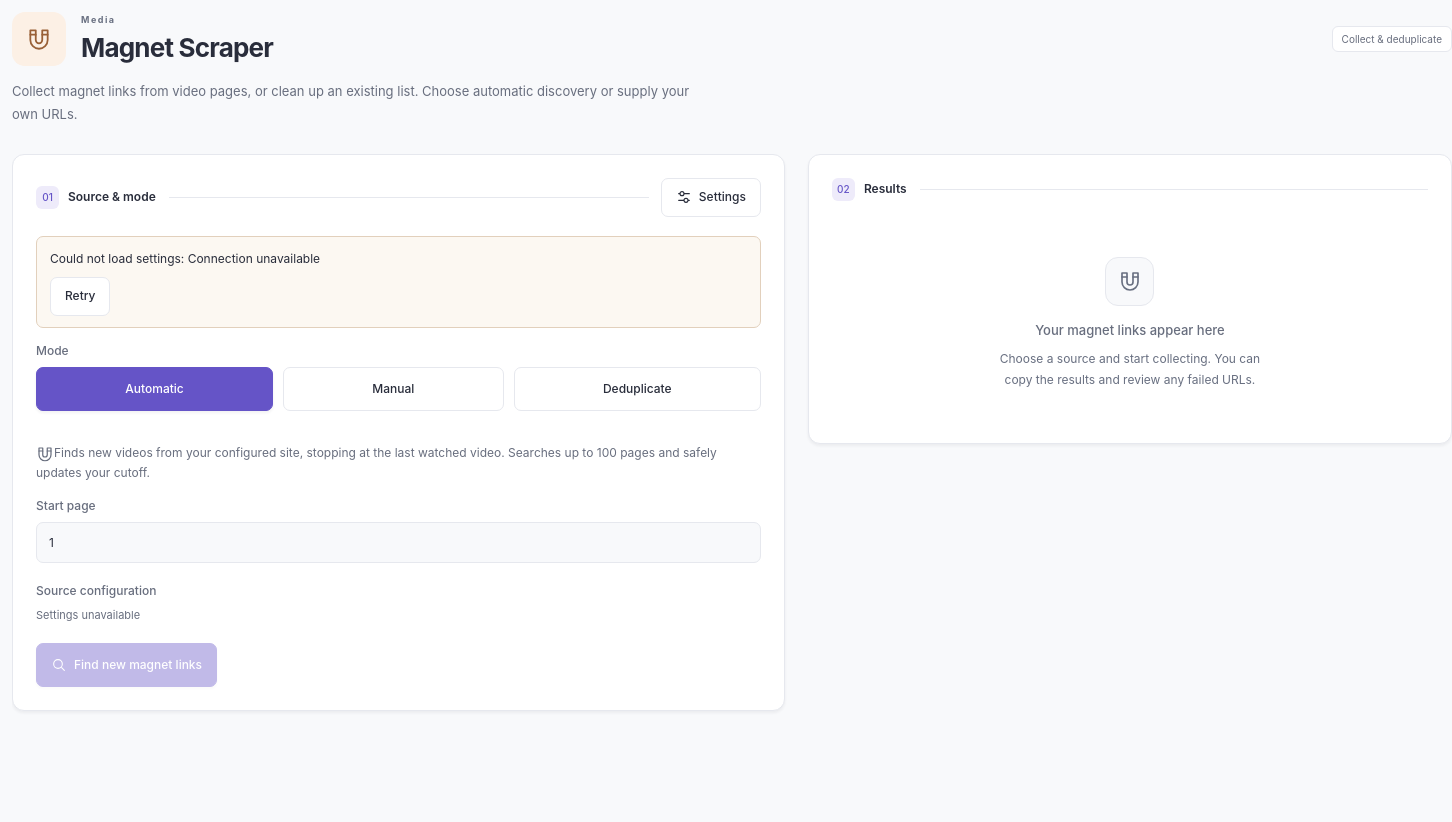
Test: allows a failed settings load to be retried while other modes remain usable
This screenshot has width=1452, height=822.
Check: the message shows "Connection unavailable", box [188,251,320,266]
Check: the button "Find new magnet links" is disabled, box [36,643,217,687]
Click the button "Manual" at (393, 389), box [283,367,504,411]
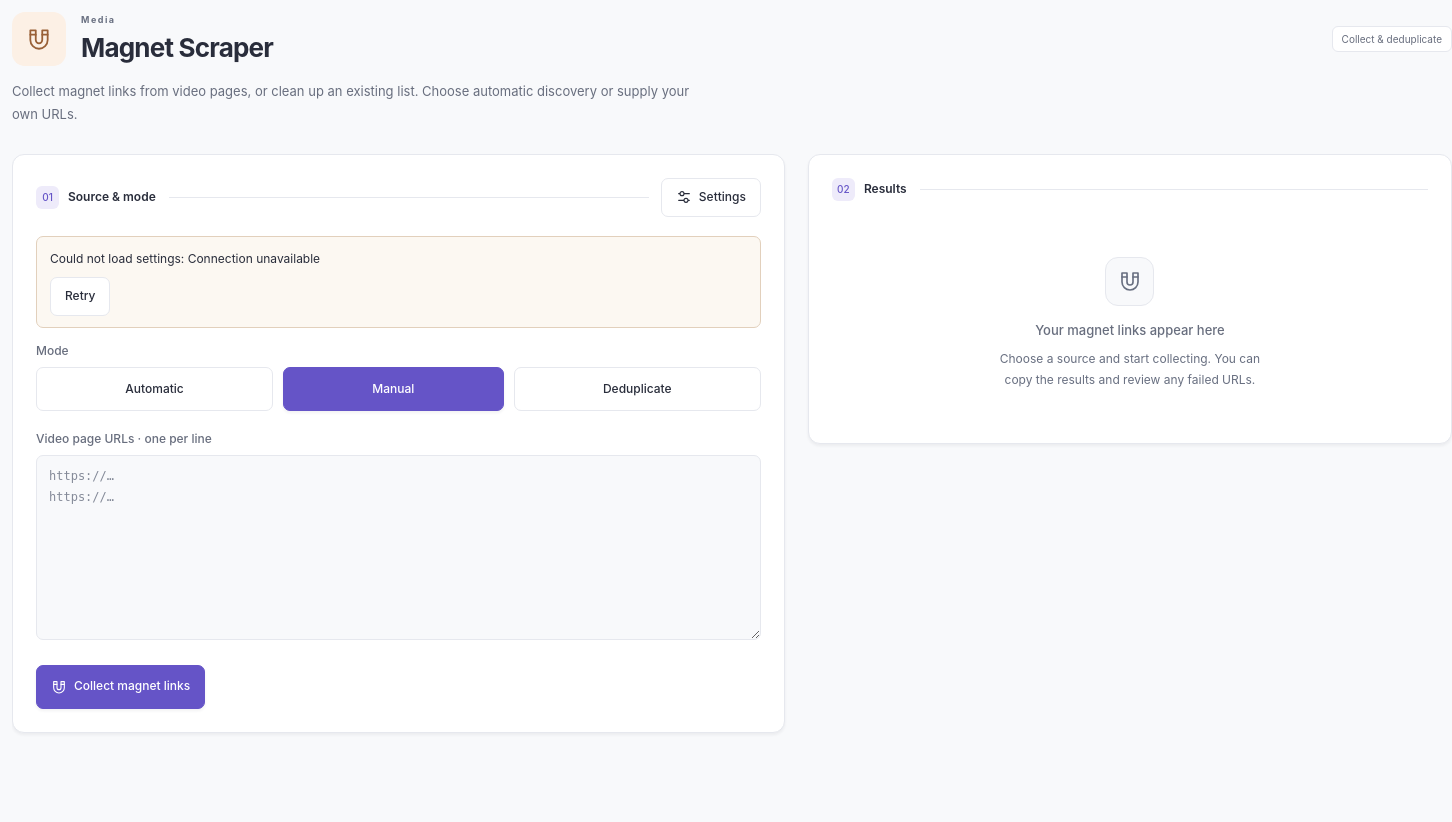
Check: the button "Collect magnet links" is enabled, box [36,665,205,709]
Click the button "Deduplicate" at (637, 389), box [514,367,761,411]
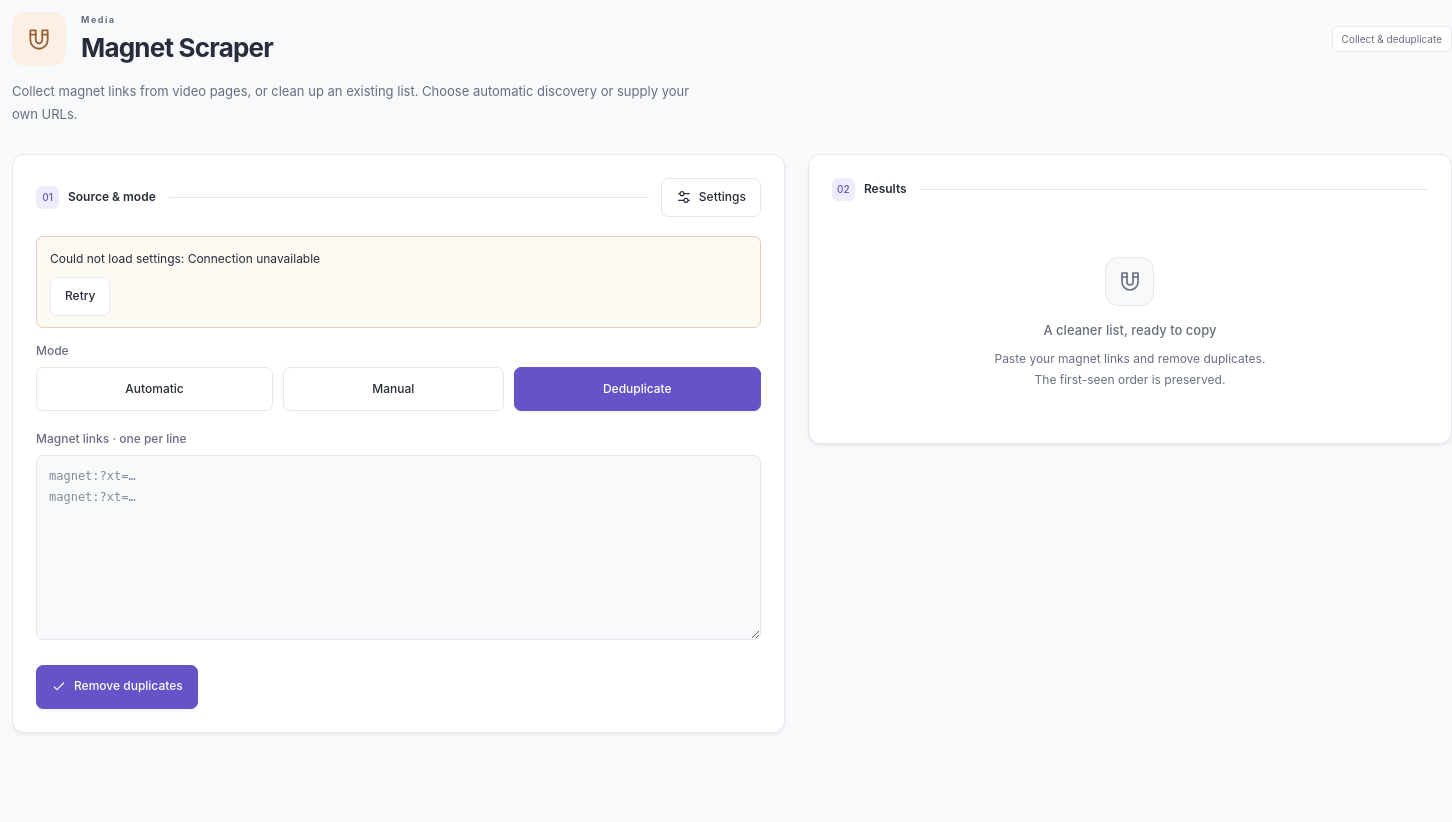
Check: the button "Remove duplicates" is enabled, box [36,665,198,709]
Click the button "Automatic" at (154, 389), box [36,367,273,411]
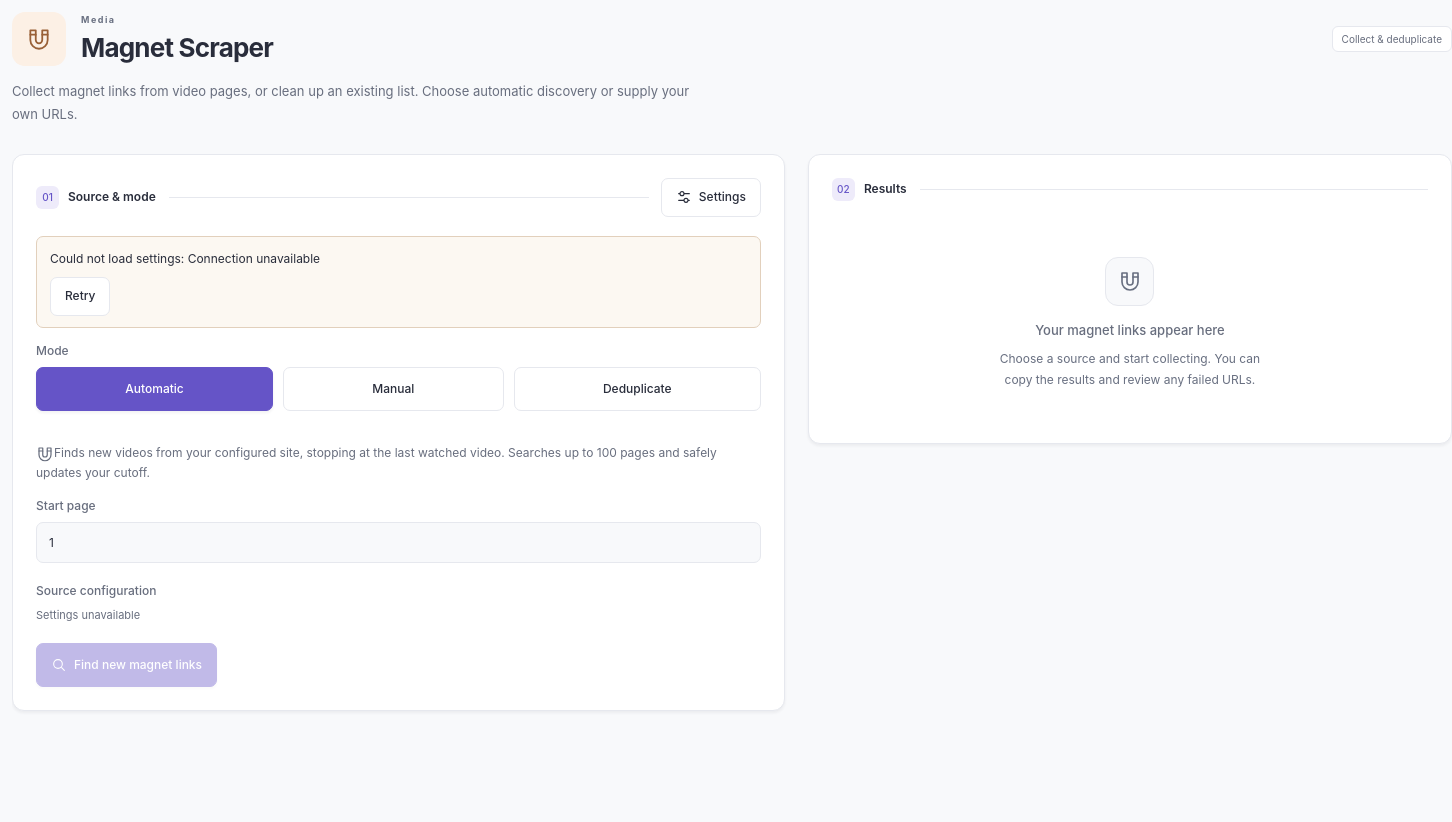
Click the button "Retry" at (80, 296), box [50,277,110,316]
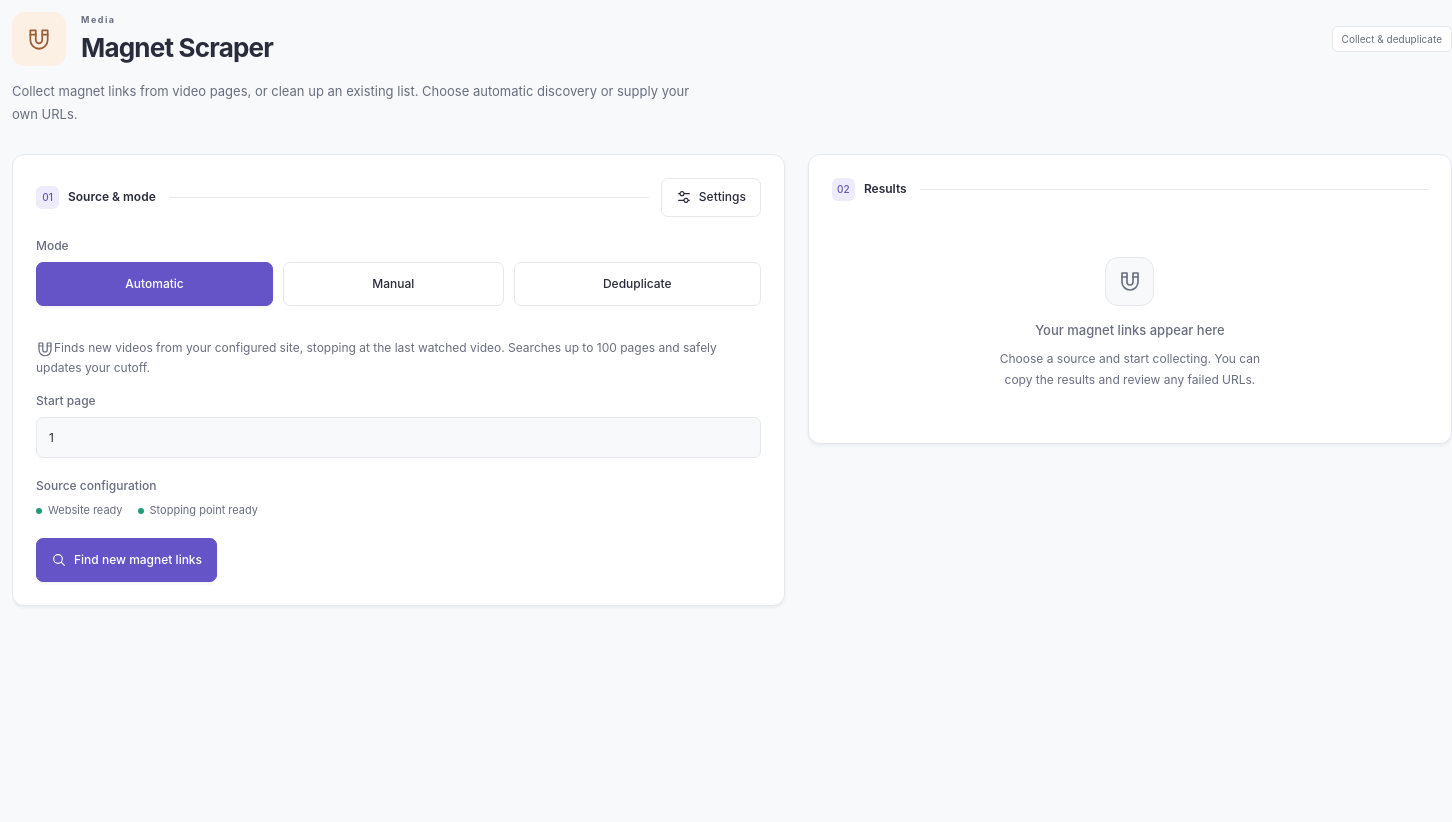
Check: the button "Find new magnet links" is enabled, box [36,538,217,582]
Check: the message "Could not load settings: Connection unavailable Retry" is gone
